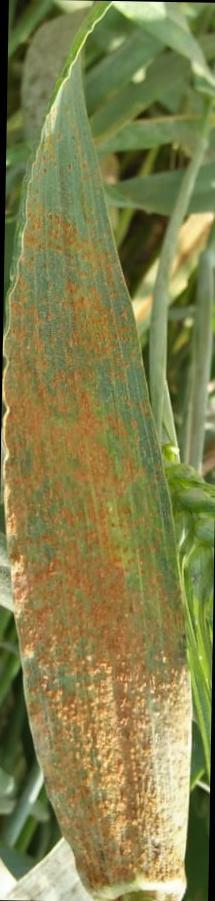Wheat: (0, 179, 183, 887), (40, 180, 42, 182)
